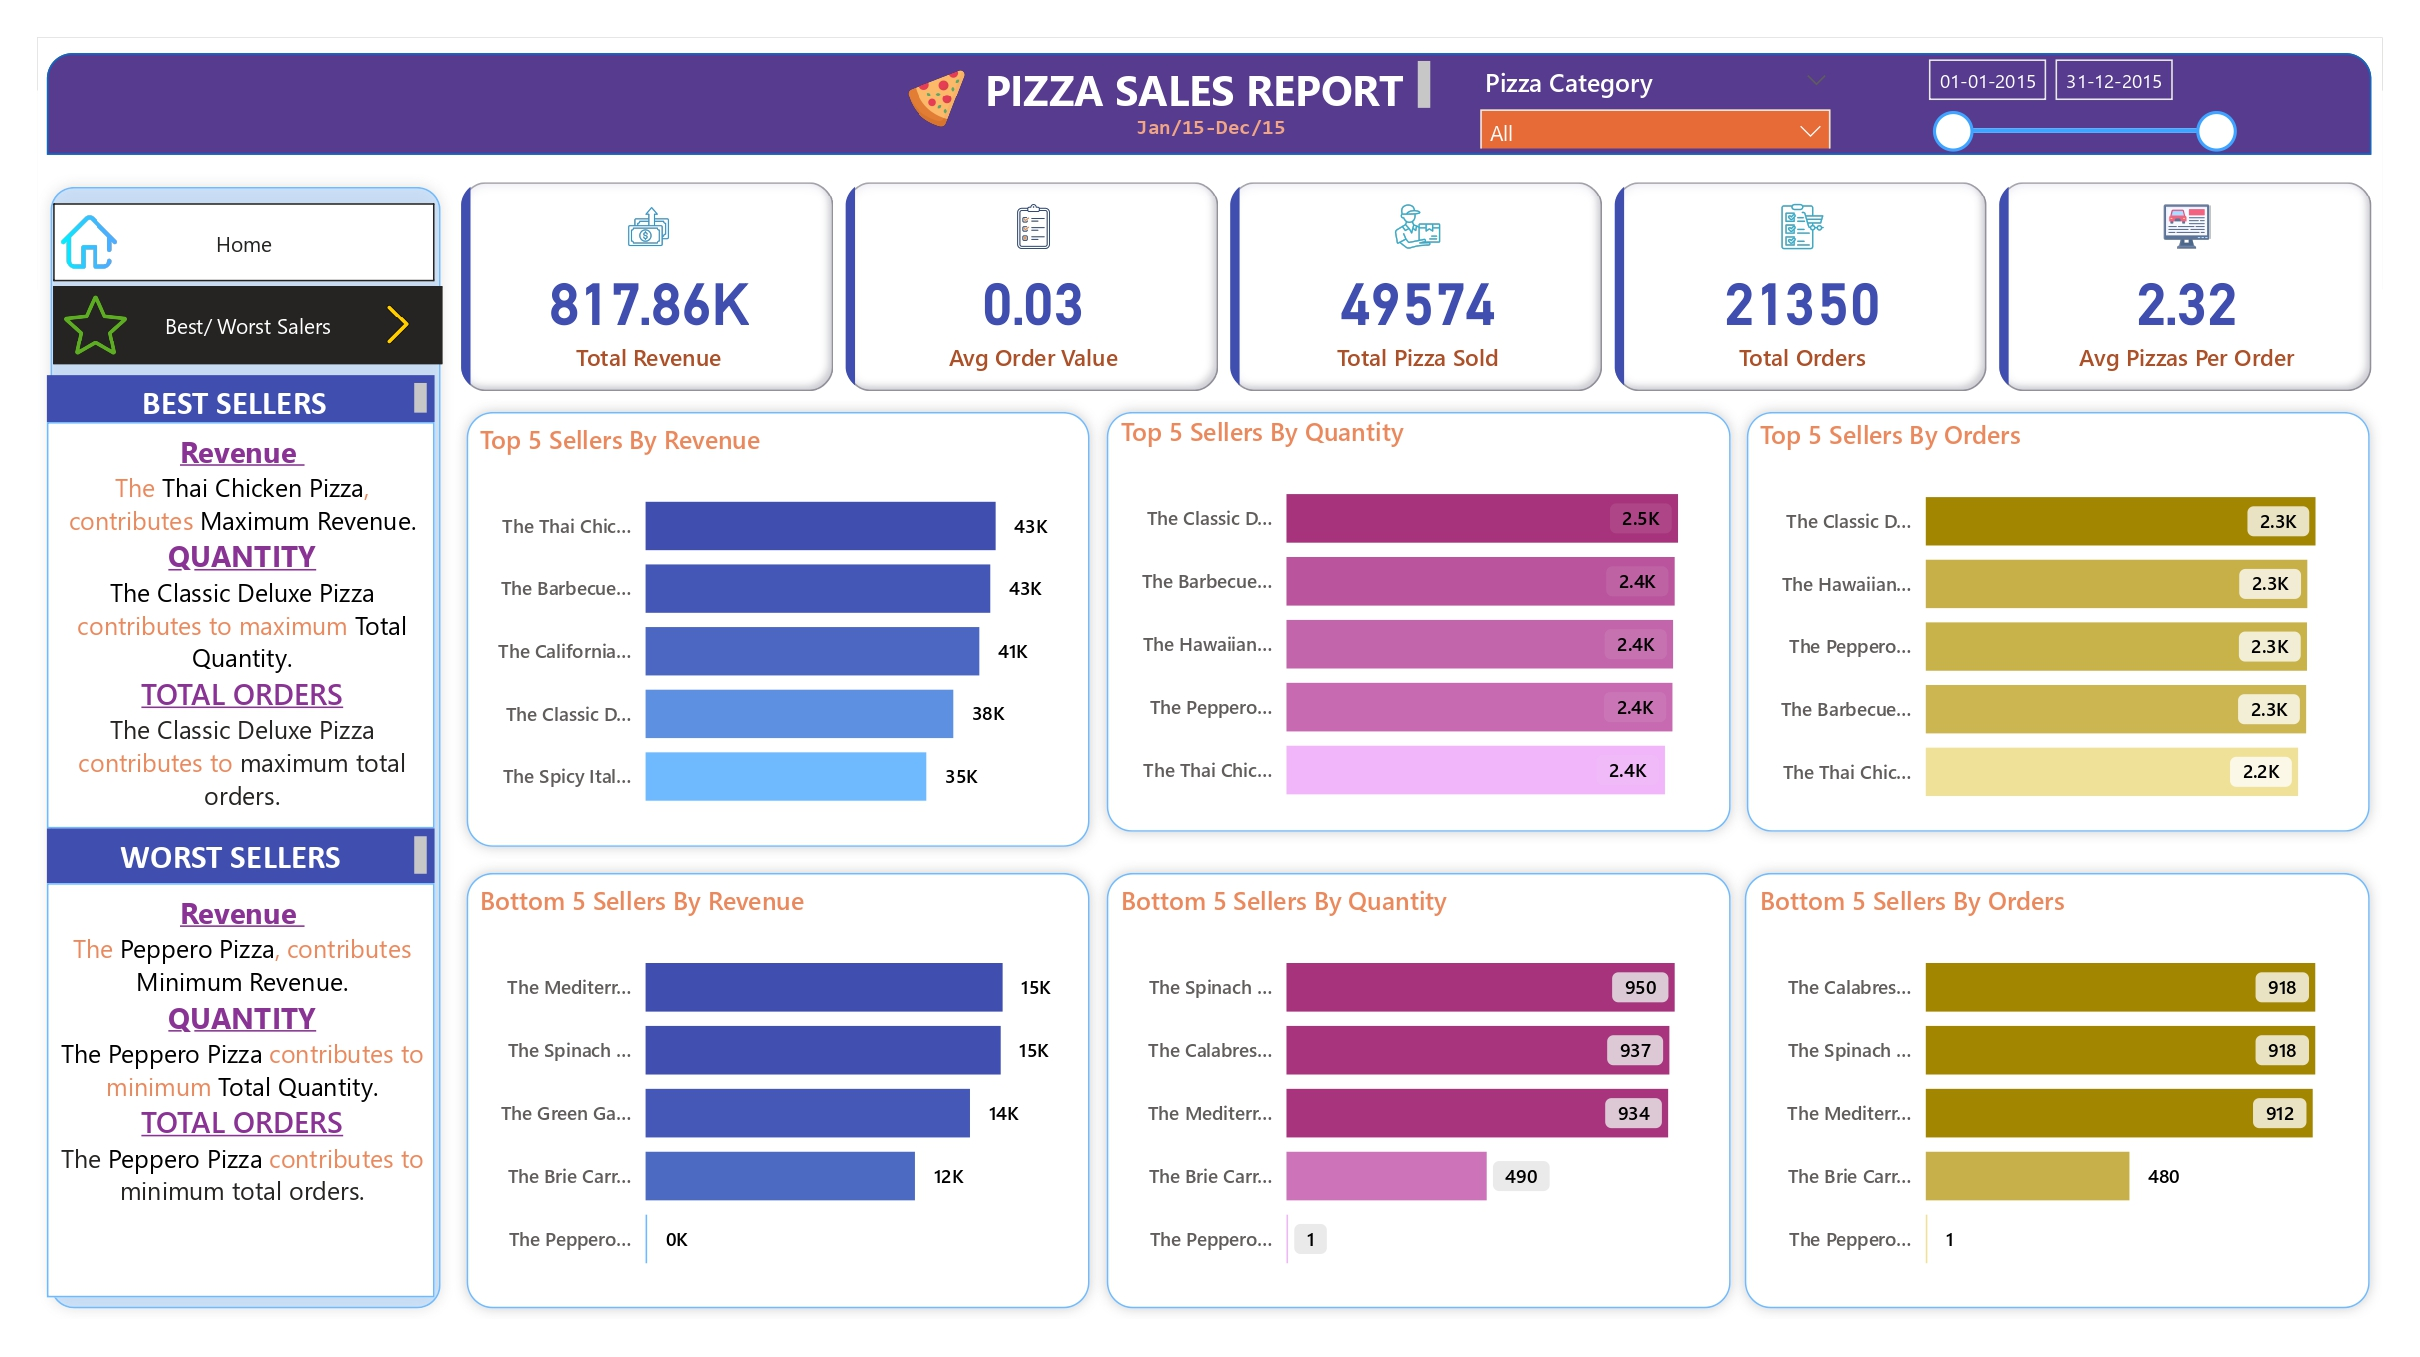

This screenshot's page, from the dashboard's own definition file:
{"tool":"powerbi","page":{"name":"Best/ Worst Salers","canvas":[1500,820],"ordinal":1},"visuals":[{"type":"cardVisual","fields":{"Data":["pizza_db pizza_sales.Total Revenue","pizza_db pizza_sales.Avg Order Value","pizza_db pizza_sales.Total Pizza Sold","pizza_db pizza_sales.Total Orders","pizza_db pizza_sales.Avg Pizzas Per Order"]},"box":[266.2,86.8,1233.8,144.1],"z":0},{"type":"shape","box":[5.9,10.3,1486.8,64.7],"z":1000},{"type":"textbox","box":[598.5,10.3,297.1,42.6],"z":2000},{"type":"textbox","box":[541.2,42.6,419.1,32.4],"z":3000},{"type":"shape","box":[0,86.8,266.2,733.8],"z":4000},{"type":"image","box":[520.6,14.7,108.8,48.5],"z":5000},{"type":"shape","box":[266.2,230.9,414.7,295.6],"z":6000},{"type":"textbox","box":[5.9,216.2,248.5,29.4],"z":7000},{"type":"textbox","box":[5.9,245.6,248.5,260.3],"z":8000},{"type":"textbox","box":[5.9,505.9,248.5,35.3],"z":9000},{"type":"textbox","box":[5.9,541.2,248.5,264.7],"z":10000},{"type":"slicer","fields":{"Values":["pizza_db pizza_sales.pizza_category"]},"box":[913.2,13.2,244.1,57.4],"z":11000},{"type":"slicer","fields":{"Values":["pizza_db pizza_sales.order_date"]},"box":[1197.1,4.4,217.6,76.5],"z":12000},{"type":"shape","box":[676.5,230.9,414.7,285.3],"z":13000},{"type":"shape","box":[1085.3,230.9,414.7,285.3],"z":14000},{"type":"shape","box":[266.2,526.5,414.7,294.1],"z":15000},{"type":"shape","box":[676.5,526.5,414.7,294.1],"z":16000},{"type":"shape","box":[1083.8,526.5,416.2,294.1],"z":17000},{"type":"barChart","title":"Top 5 Sellers By Revenue","fields":{"Y":["pizza_db pizza_sales.Total Revenue"],"Category":["pizza_db pizza_sales.pizza_name"]},"box":[277.9,245.6,391.2,264.7],"z":18000},{"type":"barChart","title":"Bottom 5 Sellers By Revenue","fields":{"Y":["pizza_db pizza_sales.Total Revenue"],"Category":["pizza_db pizza_sales.pizza_name"]},"box":[277.9,541.2,391.2,264.7],"z":19000},{"type":"barChart","title":"Top 5 Sellers By Quantity","fields":{"Category":["pizza_db pizza_sales.pizza_name"],"Y":["pizza_db pizza_sales.Total Pizza Sold"]},"box":[688.2,241.2,391.2,264.7],"z":20000},{"type":"barChart","title":"Bottom 5 Sellers By Quantity","fields":{"Category":["pizza_db pizza_sales.pizza_name"],"Y":["pizza_db pizza_sales.Total Pizza Sold"]},"box":[688.2,541.2,391.2,264.7],"z":21000},{"type":"barChart","title":"Top 5 Sellers By Orders","fields":{"Category":["pizza_db pizza_sales.pizza_name"],"Y":["pizza_db pizza_sales.Total Orders"]},"box":[1097.1,242.6,391.2,264.7],"z":22000},{"type":"barChart","title":"Bottom 5 Sellers By Orders","fields":{"Category":["pizza_db pizza_sales.pizza_name"],"Y":["pizza_db pizza_sales.Total Orders"]},"box":[1097.1,541.2,391.2,264.7],"z":23000},{"type":"pageNavigator","box":[10.3,105.9,244.1,50],"z":23001},{"type":"pageNavigator","box":[10.3,158.8,248.5,50],"z":23002},{"type":"image","box":[205.9,166.2,48.5,35.3],"z":23003},{"type":"image","box":[10.3,105.9,45.6,50],"z":23004},{"type":"image","box":[8.8,158.8,55.9,50],"z":23005}]}

Visuals, with their boxes in screenshot pixels (x1, y1, x2, y2):
cardVisual - pizza_db pizza_sales.Total Revenue x pizza_db pizza_sales.Avg Order Value: <region>454, 173, 2382, 399</region>
shape: <region>47, 54, 2371, 155</region>
textbox: <region>973, 54, 1438, 120</region>
textbox: <region>884, 104, 1539, 155</region>
shape: <region>38, 173, 454, 1319</region>
image: <region>851, 61, 1021, 136</region>
shape: <region>454, 399, 1102, 861</region>
textbox: <region>47, 376, 435, 421</region>
textbox: <region>47, 421, 435, 828</region>
textbox: <region>47, 828, 435, 884</region>
textbox: <region>47, 884, 435, 1297</region>
slicer - pizza_db pizza_sales.pizza_category: <region>1465, 58, 1847, 148</region>
slicer - pizza_db pizza_sales.order_date: <region>1909, 44, 2249, 164</region>
shape: <region>1095, 399, 1743, 845</region>
shape: <region>1734, 399, 2382, 845</region>
shape: <region>454, 861, 1102, 1319</region>
shape: <region>1095, 861, 1743, 1319</region>
shape: <region>1732, 861, 2382, 1319</region>
"Top 5 Sellers By Revenue" barChart: <region>472, 421, 1084, 835</region>
"Bottom 5 Sellers By Revenue" barChart: <region>472, 884, 1084, 1297</region>
"Top 5 Sellers By Quantity" barChart: <region>1113, 415, 1725, 828</region>
"Bottom 5 Sellers By Quantity" barChart: <region>1113, 884, 1725, 1297</region>
"Top 5 Sellers By Orders" barChart: <region>1753, 417, 2364, 831</region>
"Bottom 5 Sellers By Orders" barChart: <region>1753, 884, 2364, 1297</region>
pageNavigator: <region>54, 203, 435, 281</region>
pageNavigator: <region>54, 286, 442, 364</region>
image: <region>359, 297, 435, 353</region>
image: <region>54, 203, 125, 281</region>
image: <region>51, 286, 139, 364</region>
